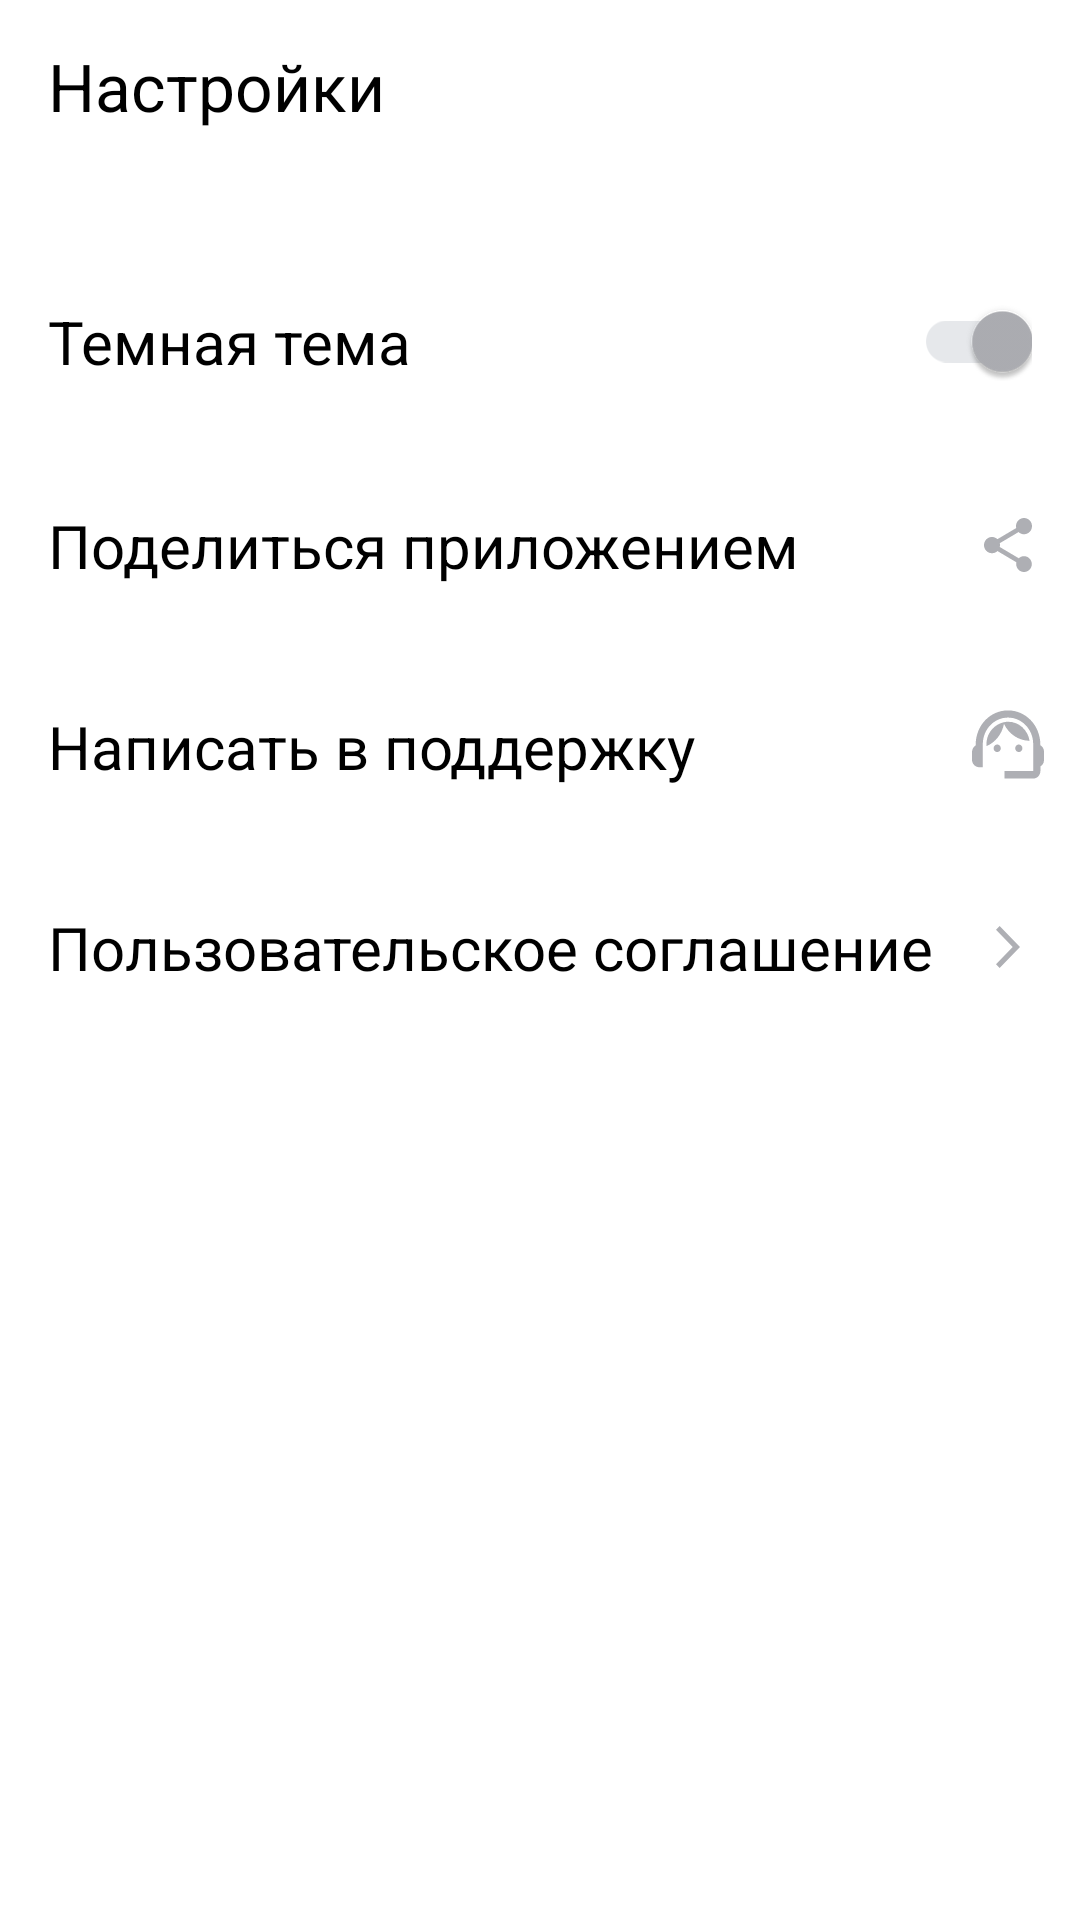

Where to tap for icons on this 1080 × 1920 app screen, as (x,y):
arrow forward: (1008,947)
share: (1008,545)
support: (1008,744)
